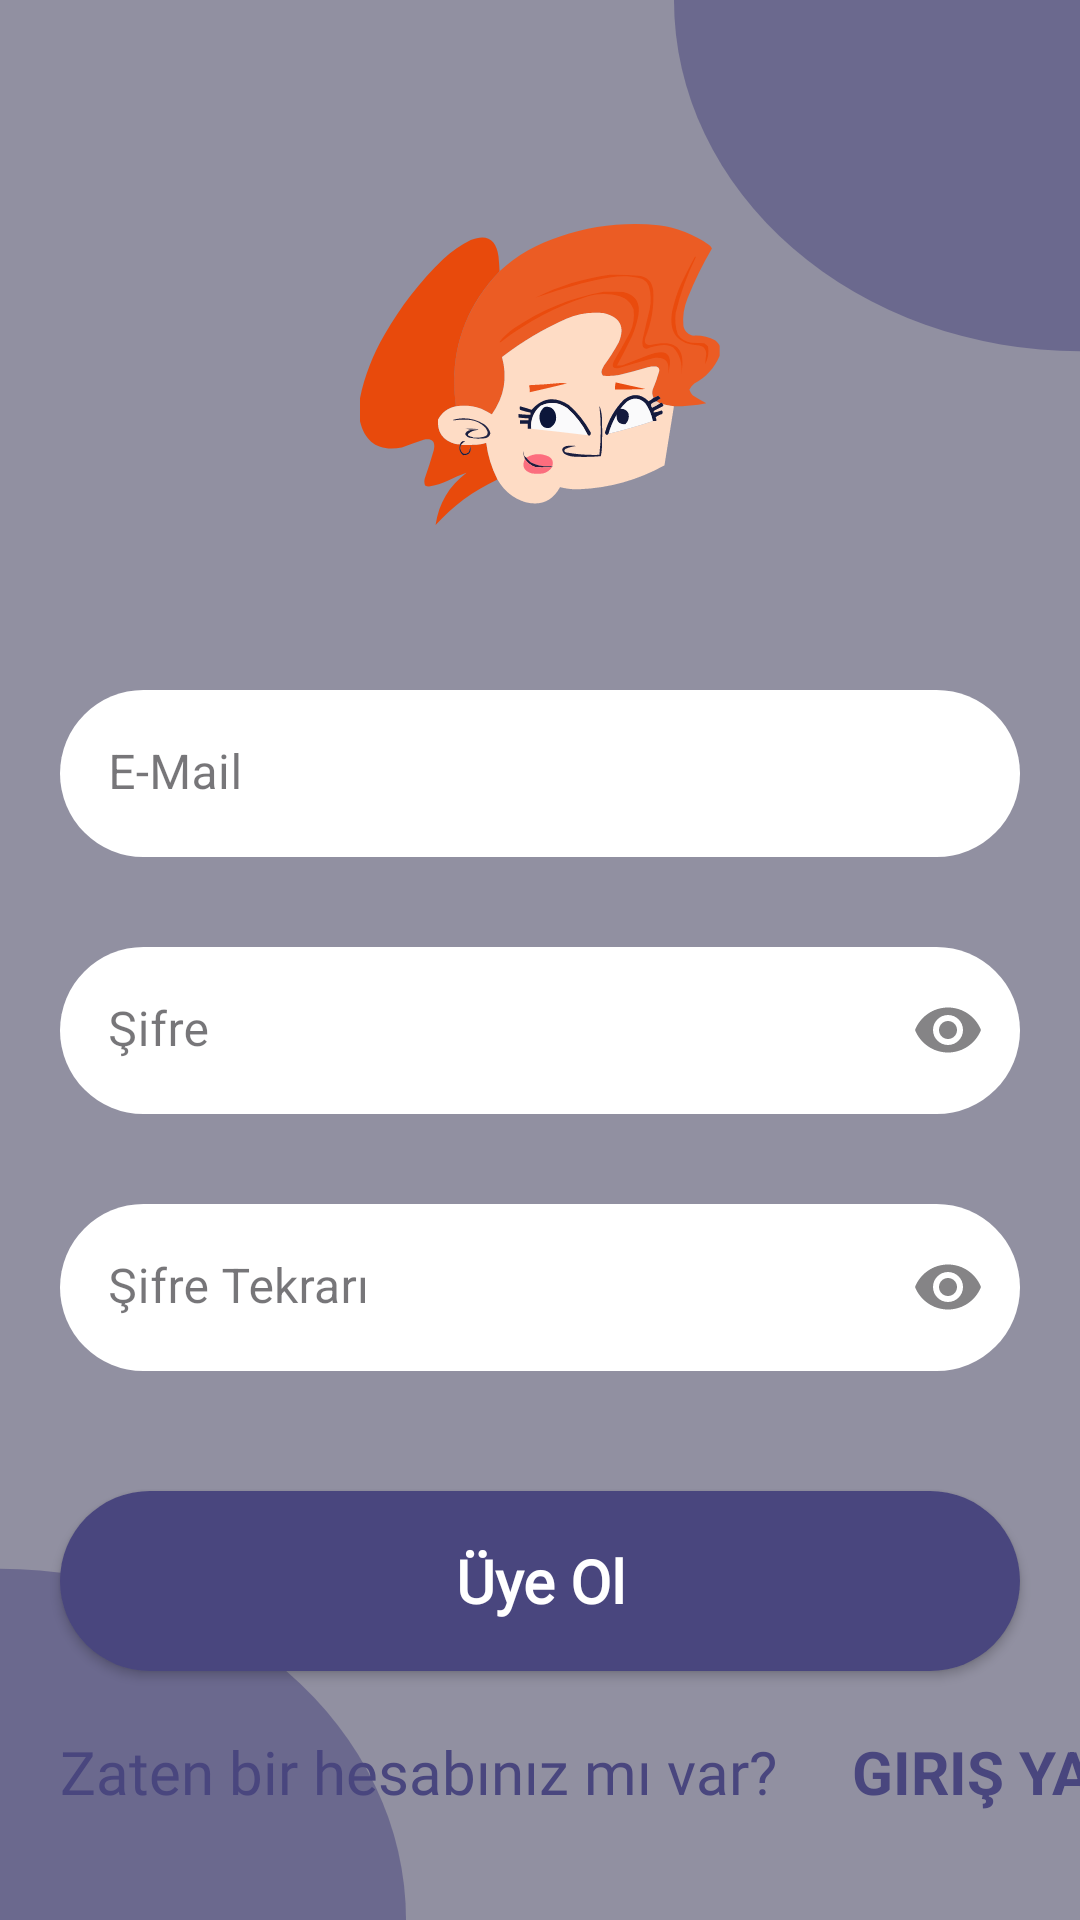

Icon click points for this 1080w x 1920h phone screenshot, format [x,y]:
Avatar Resmi: [540,374]
